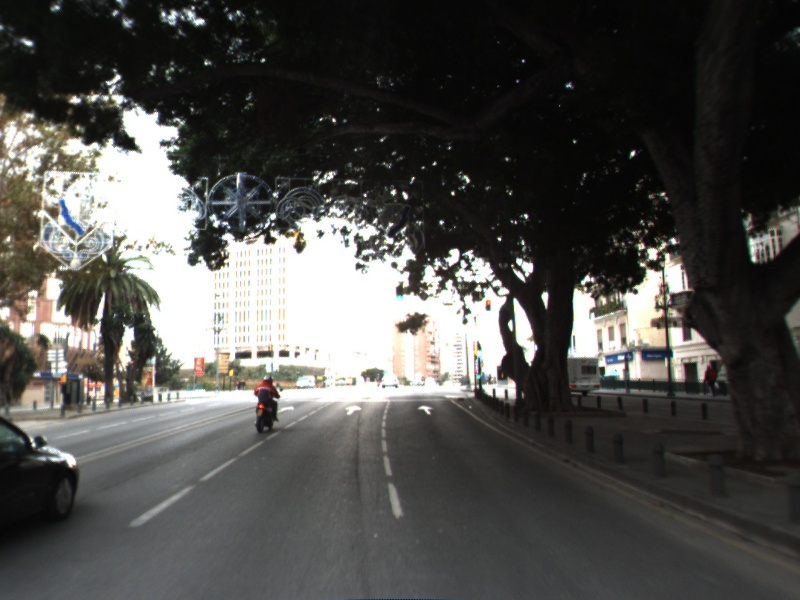STRAIGHT: (343, 403, 364, 417), (415, 403, 436, 417), (276, 404, 297, 414)
